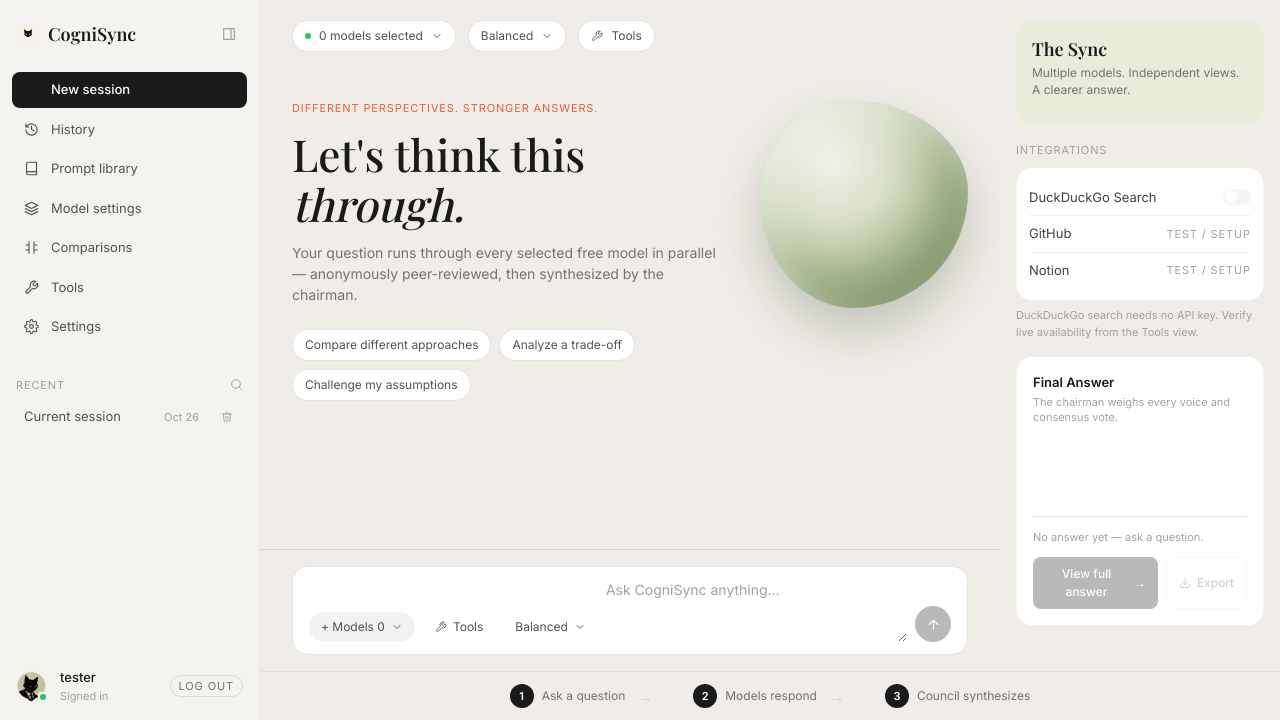
Test: conversation deletion › cancels without deleting anything
The image size is (1280, 720).
Click the button "History" at (130, 129), box x1=12 y1=112 x2=247 y2=147
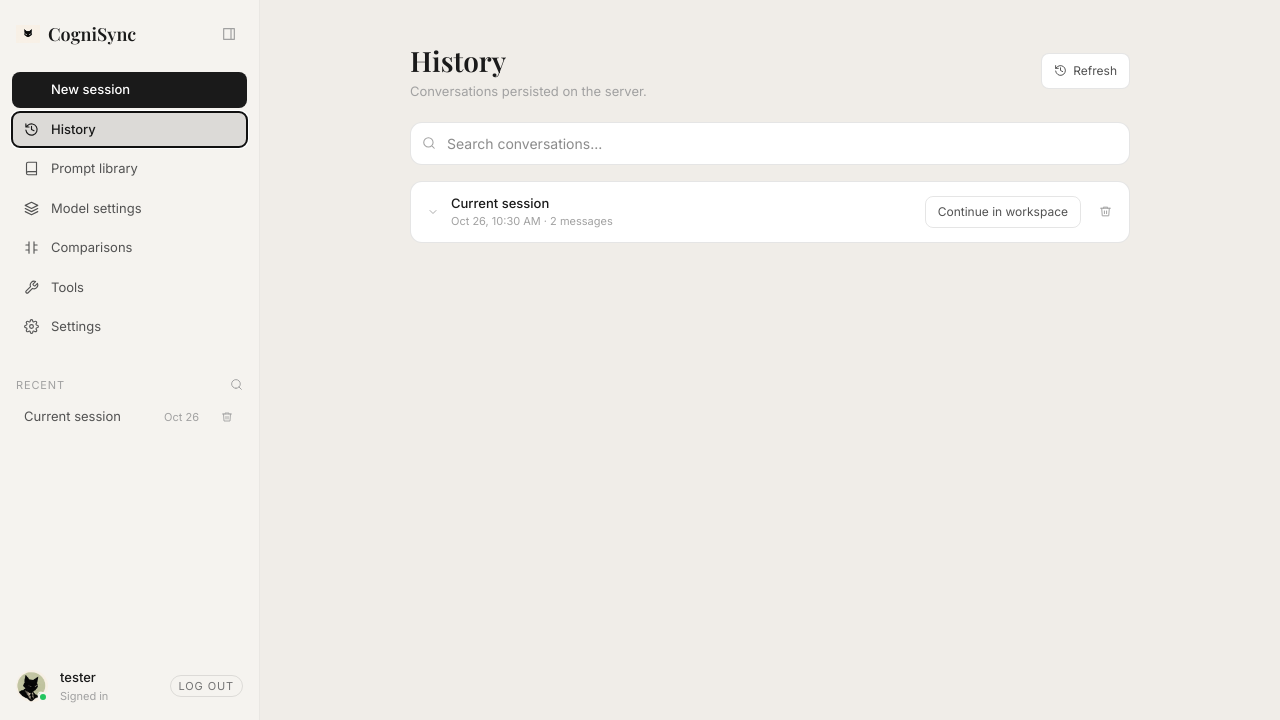
Click the 1st button named "Delete Current session" at (1105, 212), box x1=1089 y1=196 x2=1121 y2=228
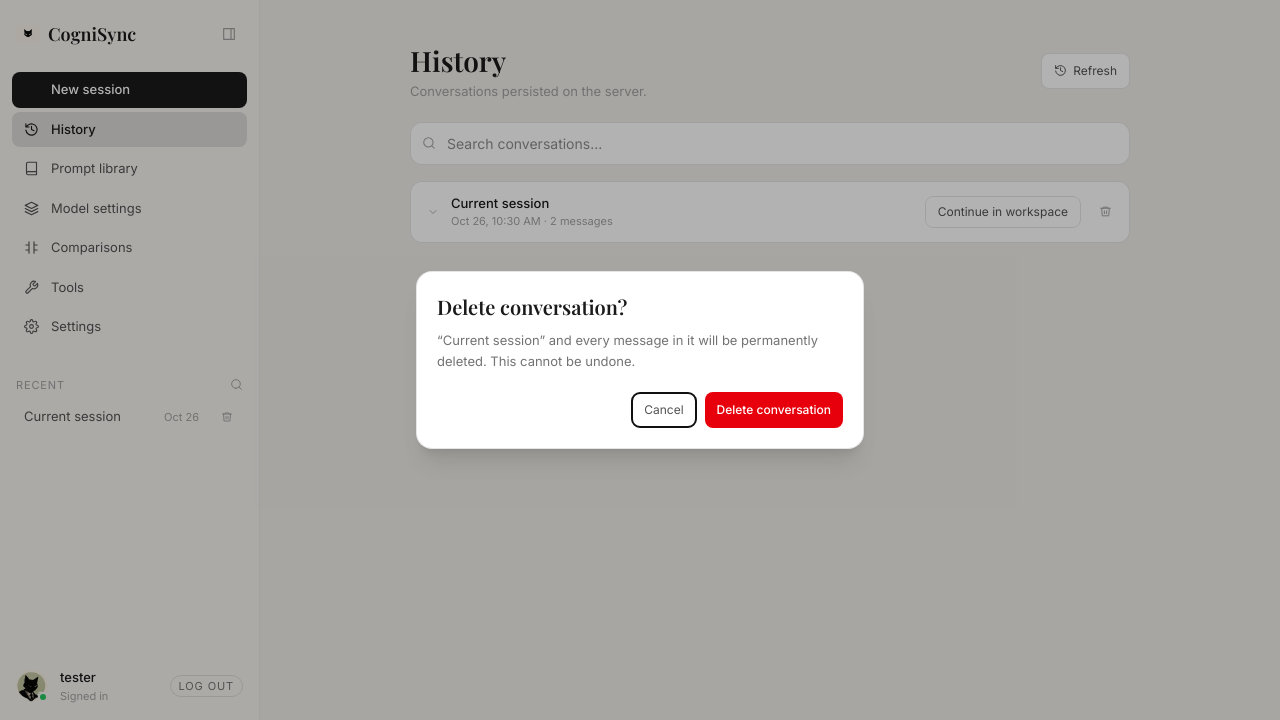
Click the button "Cancel" at (664, 410), box x1=631 y1=392 x2=697 y2=428
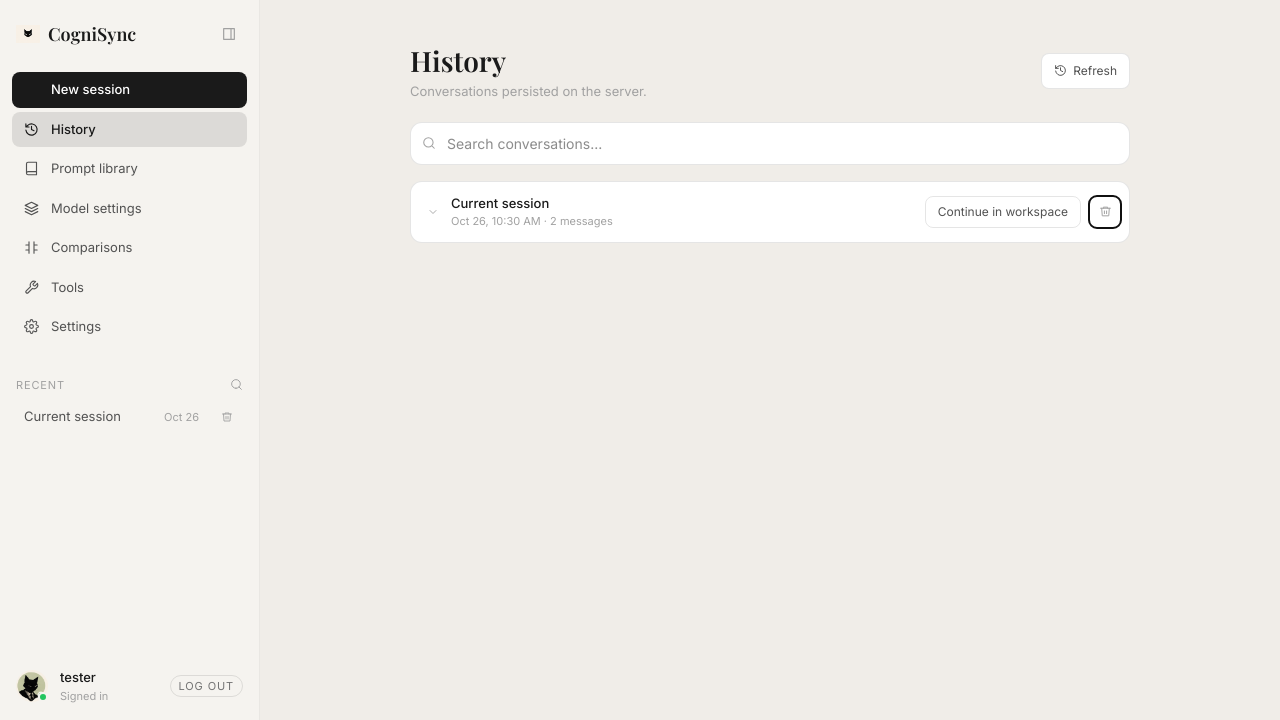
Check: the text "Current session" below "Conversations persisted on the server." is shown, box x1=451 y1=194 x2=549 y2=210
Check: the dialog is gone
